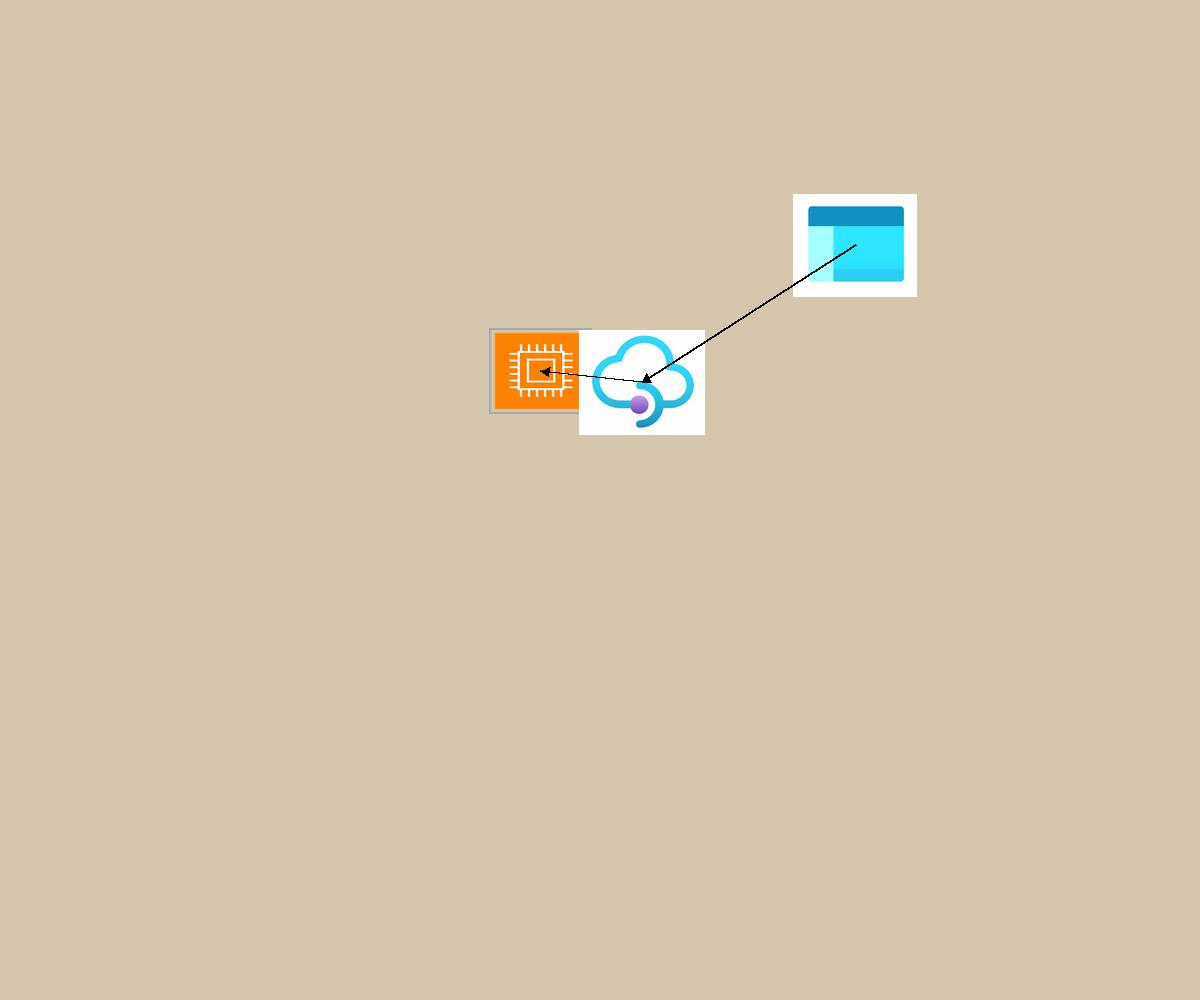AWS-Category_Compute: (489, 328, 592, 414)
Azure_api_gateway: (579, 330, 705, 435)
Azure_management-portal: (793, 194, 917, 297)
